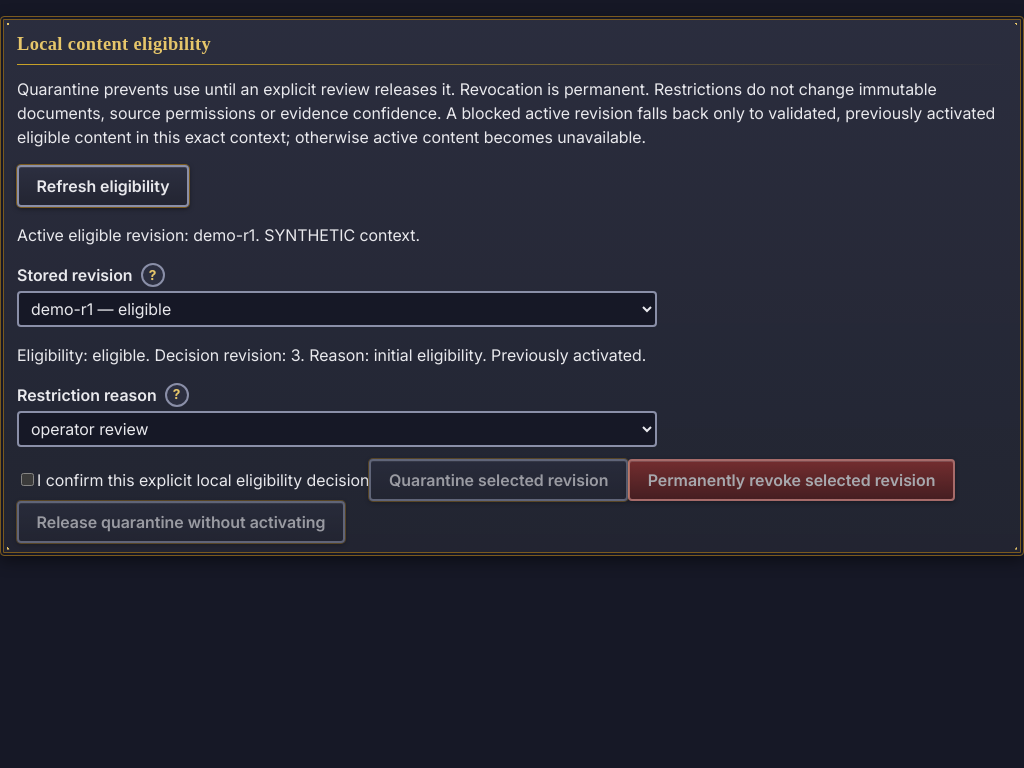
it: requires explicit confirmation and sends full CAS identity before restriction
Expected: the text "Decision revision: 3" is shown, [17,345,646,365]
Expected: the button "Quarantine selected revision" is disabled, [369,459,628,501]
Select "invalid content" in the dropdown labelled "Restriction reason" at (337, 429), box [17,411,657,447]
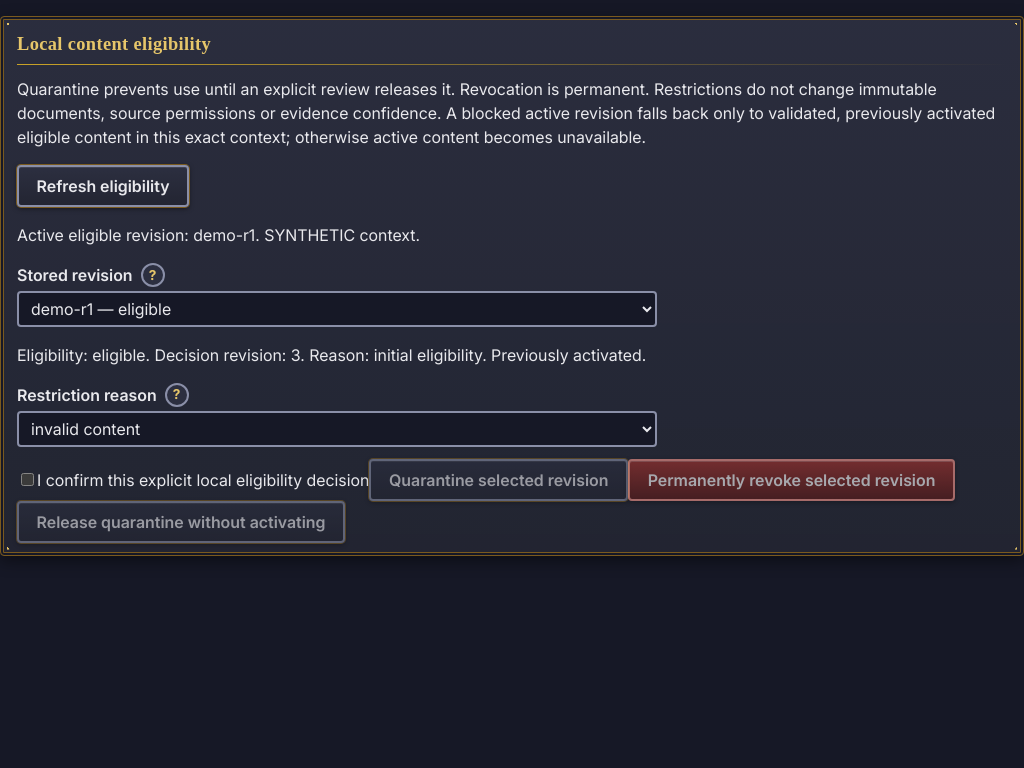
Click the checkbox.
click(28, 479)  # box [21,473,34,486]
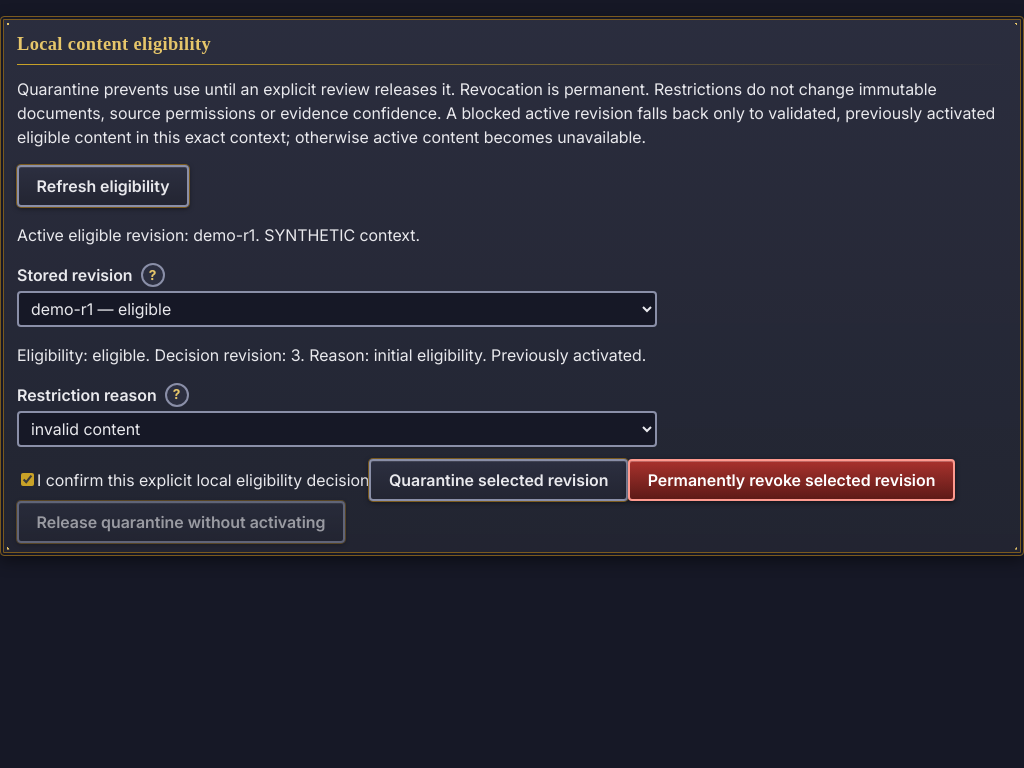
Click the button "Quarantine selected revision".
click(499, 480)  # box [369,459,628,501]
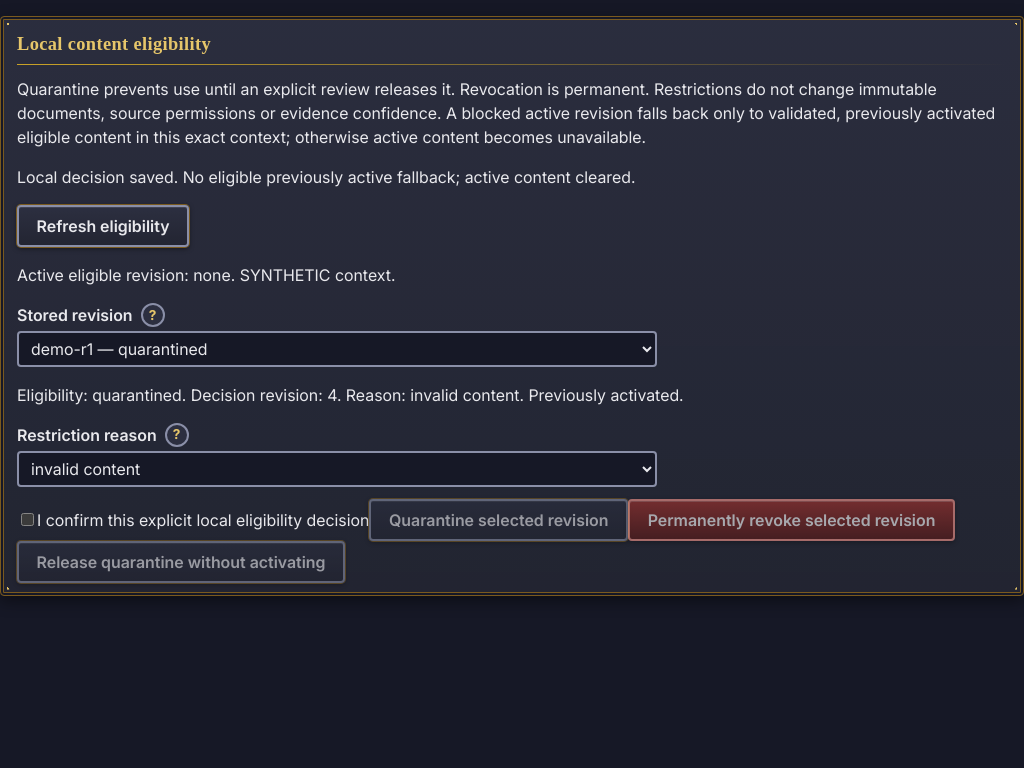
Expected: the button "Release quarantine without activating" is disabled, [17,541,345,583]
Result: the text "Decision revision: 4" is shown at [17,385,684,405]
